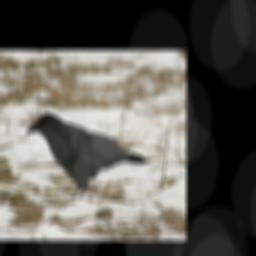Crow: (23, 108, 148, 201)
